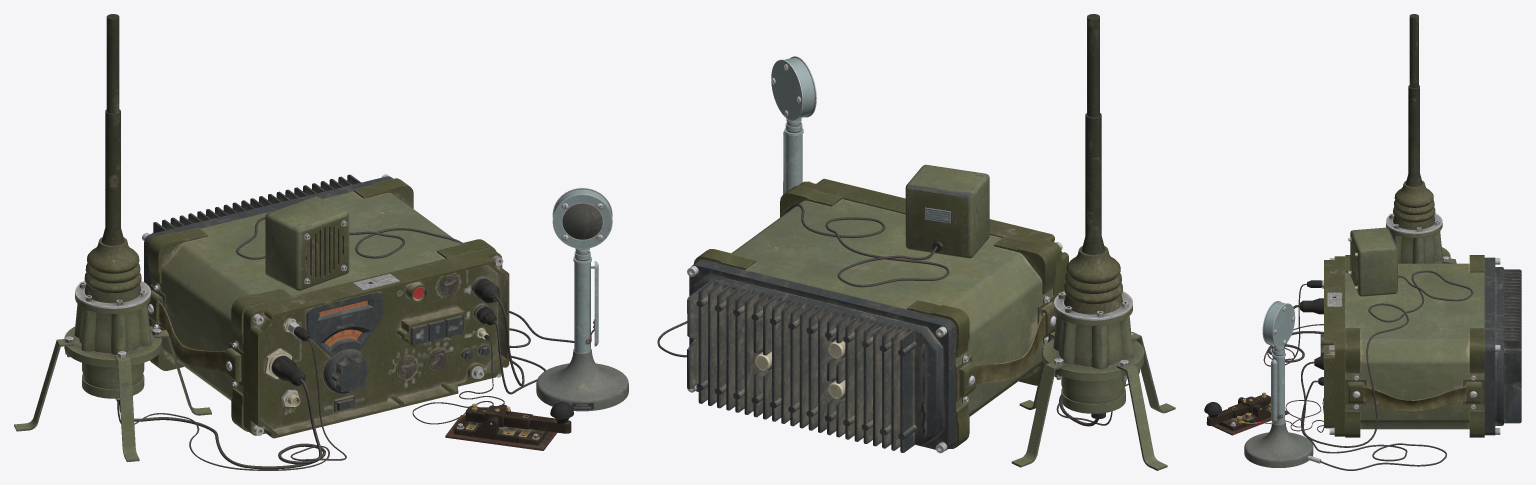
The model's file is detail.fbx.
3 views of the same model, side by side, from view 1: azimuth 30°, elevation 25°; view 2: azimuth 150°, elevation 25°; view 3: azimuth 270°, elevation 25° (orthographic). The views are drawn at different scales.
Visible parts, largest first — view 1: vintage_radio_transceiver, vintage_radio_transceiver_antenna, vintage_radio_transceiver_microphone, vintage_radio_transceiver_speaker, vintage_radio_transceiver_cables, vintage_radio_transceiver_morse_key_base, vintage_radio_transceiver_morse_key_arm, vintage_radio_transceiver_dial, vintage_radio_transceiver_antenna_plug_a; view 2: vintage_radio_transceiver, vintage_radio_transceiver_antenna, vintage_radio_transceiver_speaker, vintage_radio_transceiver_microphone, vintage_radio_transceiver_cables; view 3: vintage_radio_transceiver, vintage_radio_transceiver_antenna, vintage_radio_transceiver_microphone, vintage_radio_transceiver_cables, vintage_radio_transceiver_speaker, vintage_radio_transceiver_morse_key_arm, vintage_radio_transceiver_morse_key_base.
Boxes of the visible parts, x1=… form: vintage_radio_transceiver: x1=142, y1=174, x2=509, y2=438; vintage_radio_transceiver_antenna: x1=14, y1=14, x2=211, y2=461; vintage_radio_transceiver_microphone: x1=536, y1=188, x2=628, y2=411; vintage_radio_transceiver_speaker: x1=265, y1=196, x2=349, y2=290; vintage_radio_transceiver_cables: x1=117, y1=217, x2=574, y2=470; vintage_radio_transceiver_morse_key_base: x1=445, y1=404, x2=557, y2=450; vintage_radio_transceiver_morse_key_arm: x1=466, y1=402, x2=573, y2=433; vintage_radio_transceiver_dial: x1=323, y1=329, x2=369, y2=393; vintage_radio_transceiver_antenna_plug_a: x1=271, y1=355, x2=305, y2=385; vintage_radio_transceiver: x1=687, y1=178, x2=1068, y2=453; vintage_radio_transceiver_antenna: x1=1011, y1=14, x2=1175, y2=470; vintage_radio_transceiver_speaker: x1=905, y1=164, x2=989, y2=258; vintage_radio_transceiver_microphone: x1=771, y1=56, x2=816, y2=194; vintage_radio_transceiver_cables: x1=657, y1=204, x2=1139, y2=426; vintage_radio_transceiver: x1=1324, y1=255, x2=1521, y2=437; vintage_radio_transceiver_antenna: x1=1386, y1=14, x2=1456, y2=263; vintage_radio_transceiver_microphone: x1=1244, y1=301, x2=1321, y2=467; vintage_radio_transceiver_cables: x1=1261, y1=270, x2=1473, y2=470; vintage_radio_transceiver_speaker: x1=1348, y1=227, x2=1397, y2=296; vintage_radio_transceiver_morse_key_arm: x1=1204, y1=392, x2=1270, y2=425; vintage_radio_transceiver_morse_key_base: x1=1206, y1=397, x2=1289, y2=435.
Bounding box in the file's own units: 57.4 × 43.44 × 41.31.
